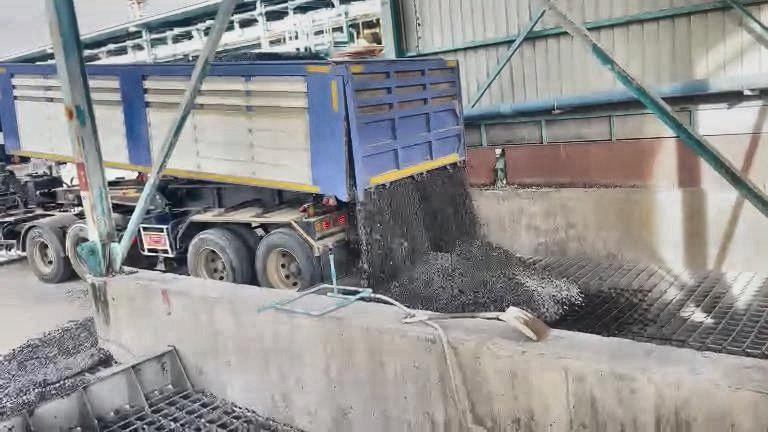gravel: (358, 168, 582, 321), (1, 318, 114, 416), (214, 51, 326, 60)
